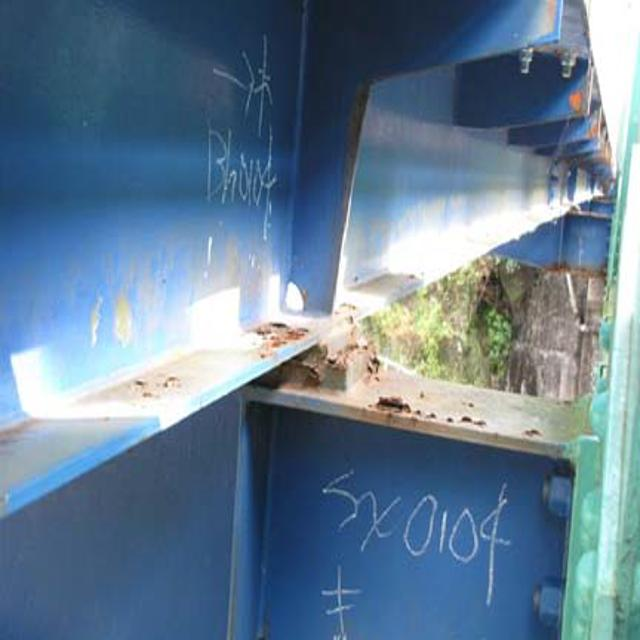corrosion: (247, 290, 434, 429)
